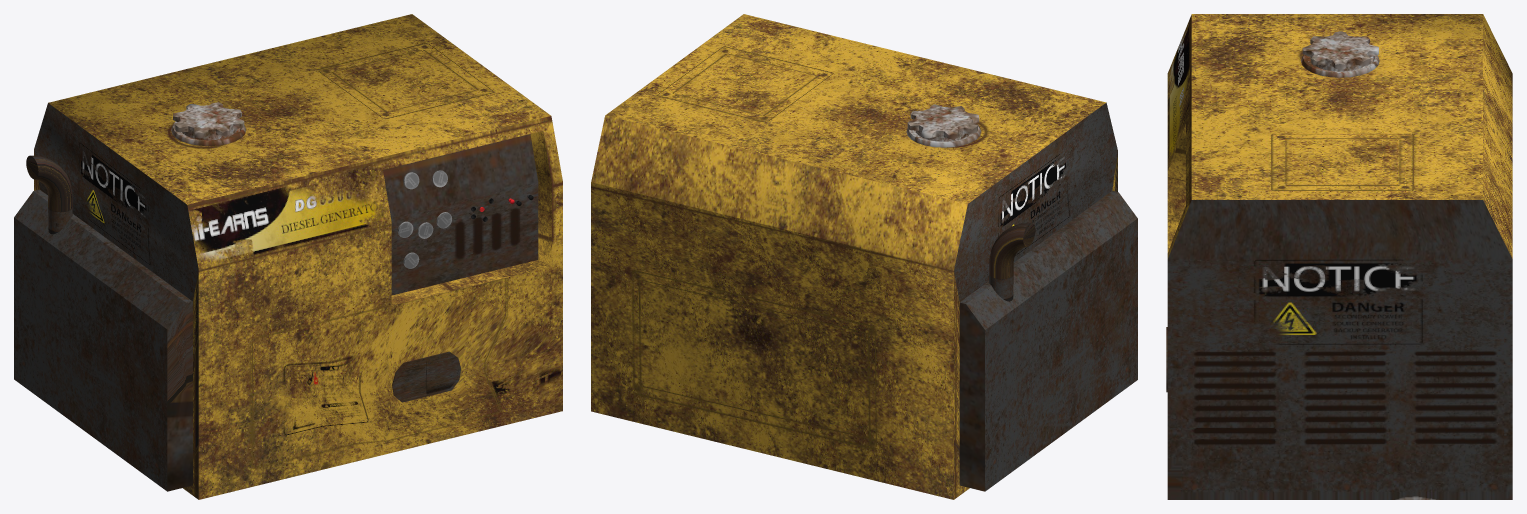
File: Generator.fbx
3 renders of one model, left to right at view 1: azimuth 30°, elevation 25°; view 2: azimuth 150°, elevation 25°; view 3: azimuth 270°, elevation 25°, orthographic. The views are drawn at different scales.
Visible parts, largest first — view 1: Cube; view 2: Cube; view 3: Cube.
Boxes of the visible parts, bbox=[...] form: Cube: bbox=[14, 14, 562, 499]; Cube: bbox=[591, 14, 1137, 499]; Cube: bbox=[1166, 14, 1512, 499].
Size of the model in its own units: 282 by 201 by 201.
